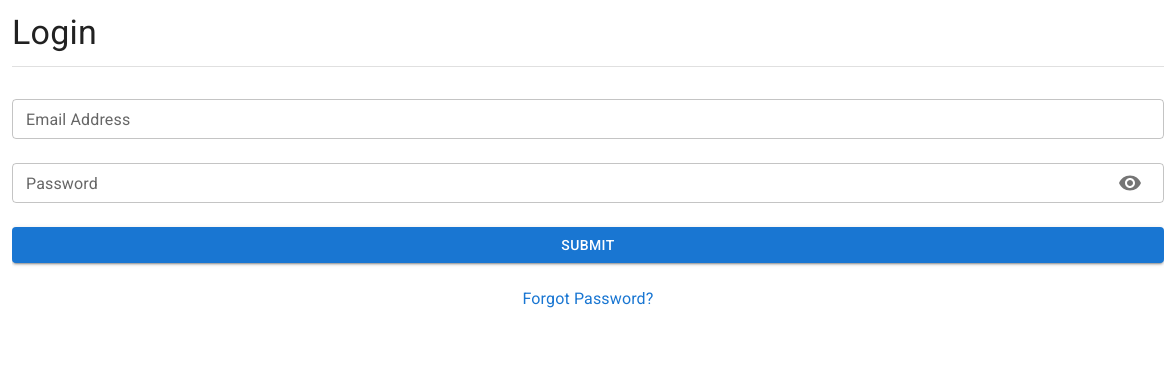
Test: Login Page › should show error for invalid email and password submission
This screenshot has width=1176, height=373.
Note: Type an invalid email address
Type "invalid-email" into the field with placeholder "Enter Email Address" at (588, 119), box top-left (12, 99), bottom-right (1164, 139)
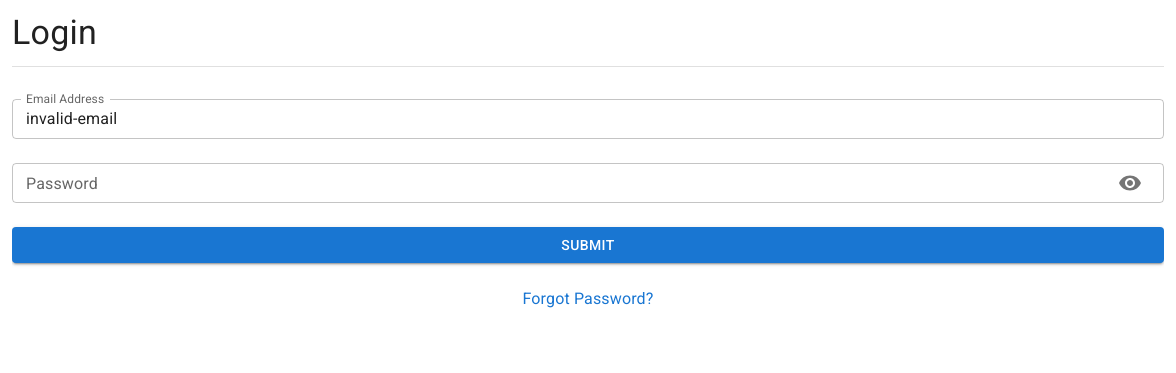
Type "123" into the password field with placeholder "Enter Password" at (557, 183), box top-left (12, 163), bottom-right (1102, 203)
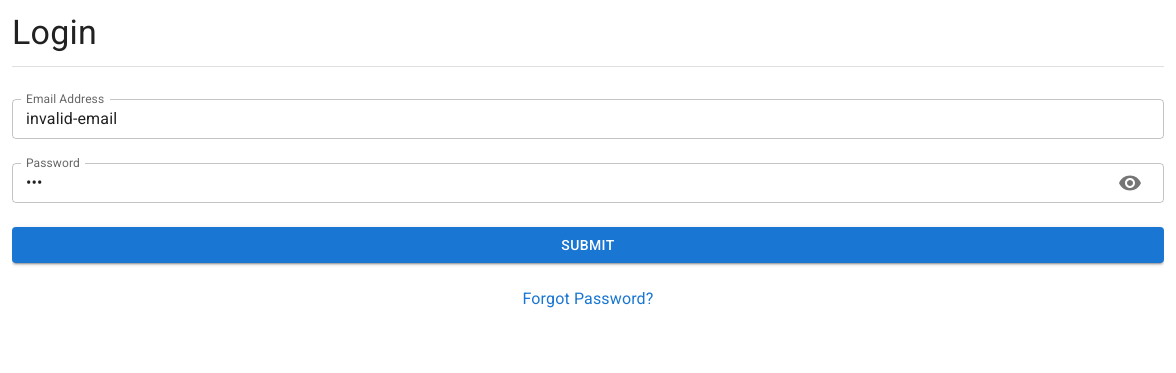
Note: Click the submit button
Click the button "Submit" at (588, 245), box top-left (12, 227), bottom-right (1164, 263)
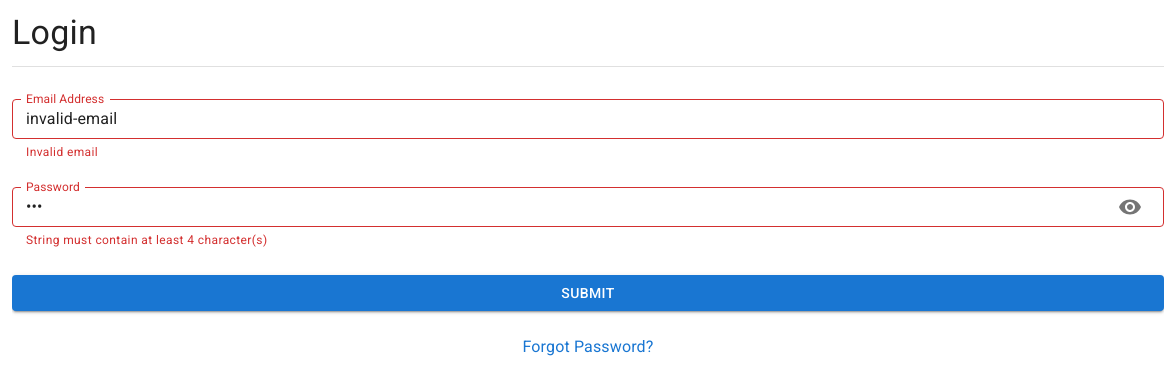
Now the text "Invalid email" is shown, box top-left (26, 145), bottom-right (98, 159)
Now the text "String must contain at least 4 character(s)" is shown, box top-left (26, 233), bottom-right (268, 247)
